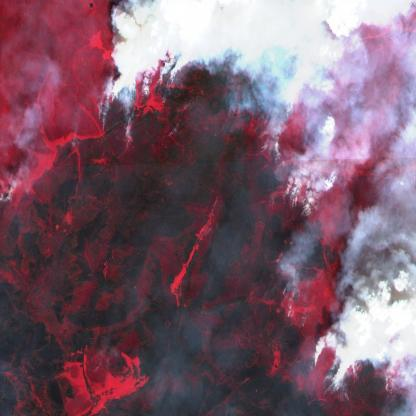fire: (96, 0, 298, 158), (306, 344, 416, 416), (276, 274, 313, 332), (284, 166, 319, 218)
